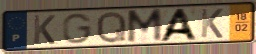A: (157, 7, 200, 43)
G: (61, 12, 94, 45)
K: (32, 14, 58, 45), (200, 8, 225, 39)
M: (125, 7, 164, 45)
Q: (95, 10, 128, 45)
